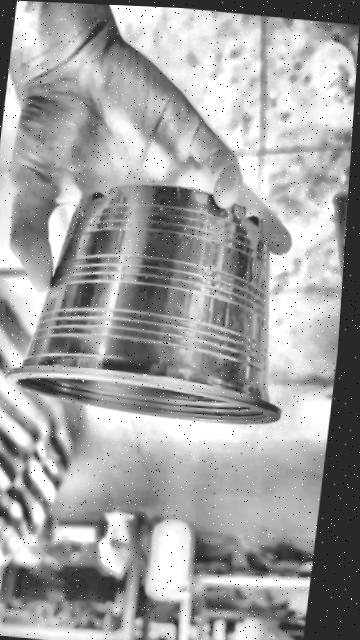pot: (7, 186, 279, 423)
